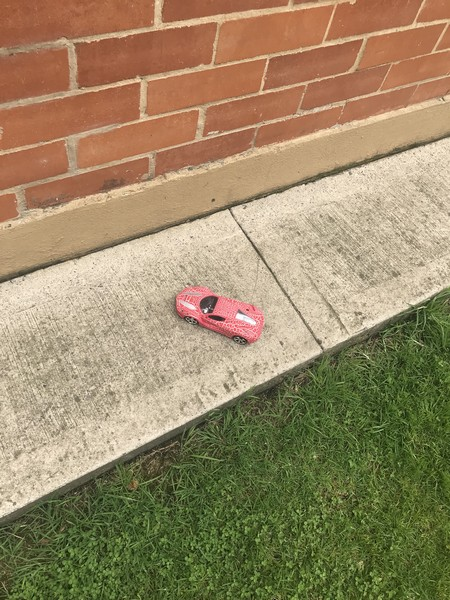RC: (169, 285, 266, 346)
